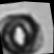correct: (0, 5, 49, 54)
